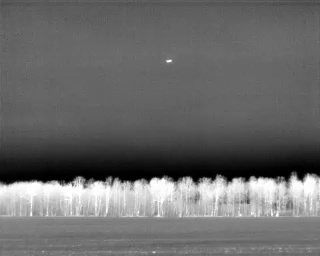DRONE: (163, 56, 175, 67)
